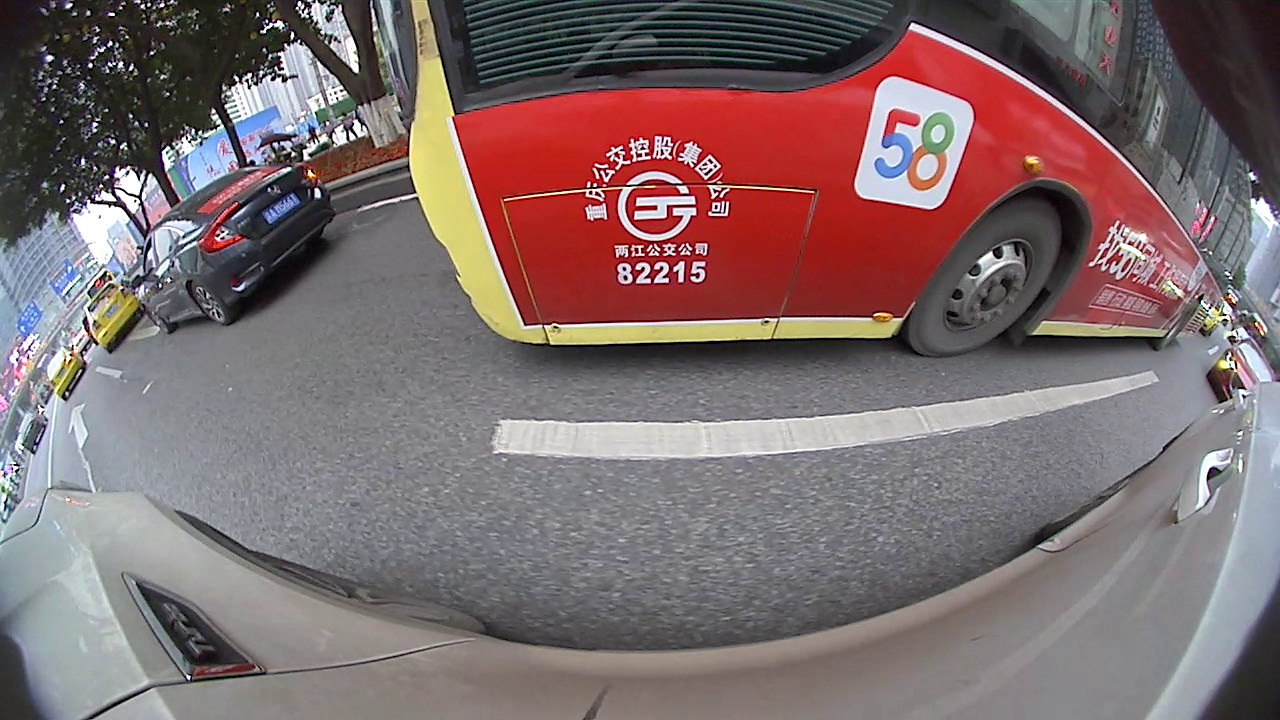bus: (367, 0, 1261, 360)
car: (131, 158, 342, 335), (1205, 333, 1279, 405), (81, 276, 143, 355), (43, 347, 88, 403)
front: (904, 197, 1067, 359), (145, 307, 173, 338)
rear: (1154, 297, 1203, 353), (188, 283, 237, 325)
